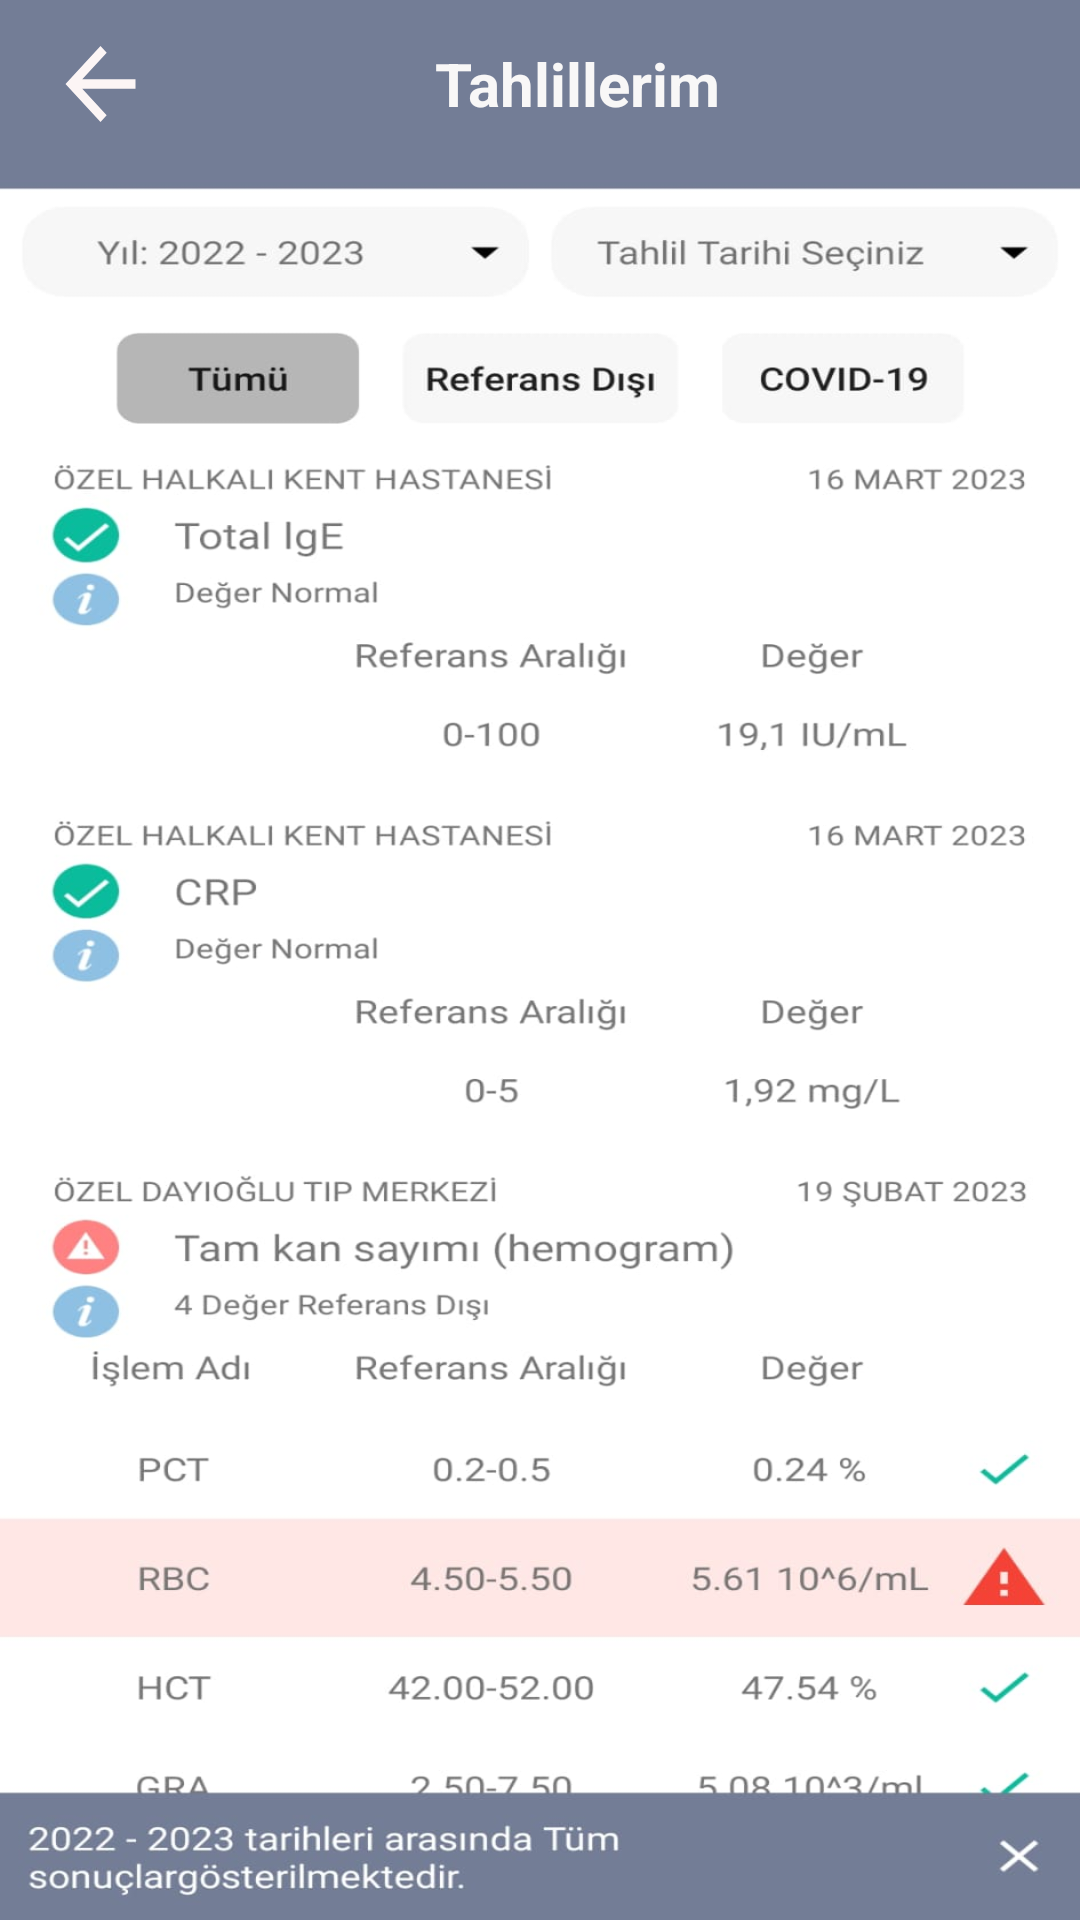

Locate icon controls on the screen. Image size 1080x1920, boxes as (x1, y1, x2, y2).
arrow back: (66, 46, 136, 122)
